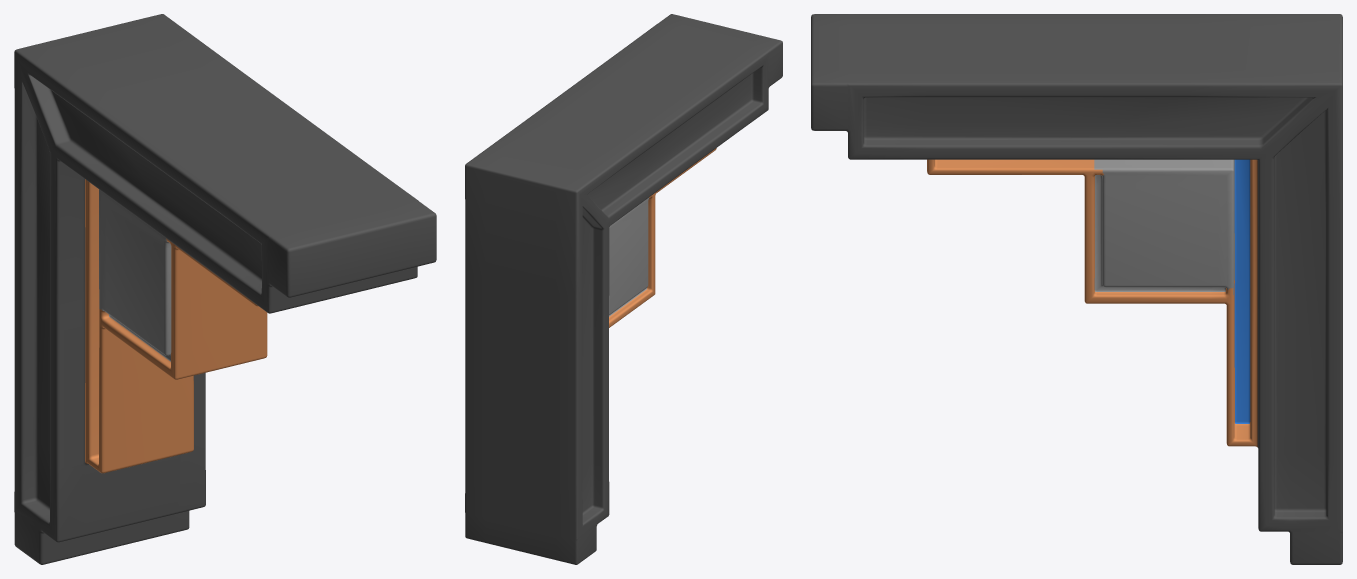
Rendered from SM_Corner_01.FBX.
3 renders of one model, left to right at view 1: azimuth 30°, elevation 25°; view 2: azimuth 150°, elevation 25°; view 3: azimuth 270°, elevation 25°, orthographic. The views are drawn at different scales.
Visible parts, largest first — view 1: corner; view 2: corner; view 3: corner.
Part boxes in pixels (left/top/right/bottom): corner: left=14, top=14, right=436, bottom=564; corner: left=465, top=14, right=782, bottom=564; corner: left=811, top=14, right=1342, bottom=564.
Bounding box in the file's own units: 79.24 × 252 × 252.
